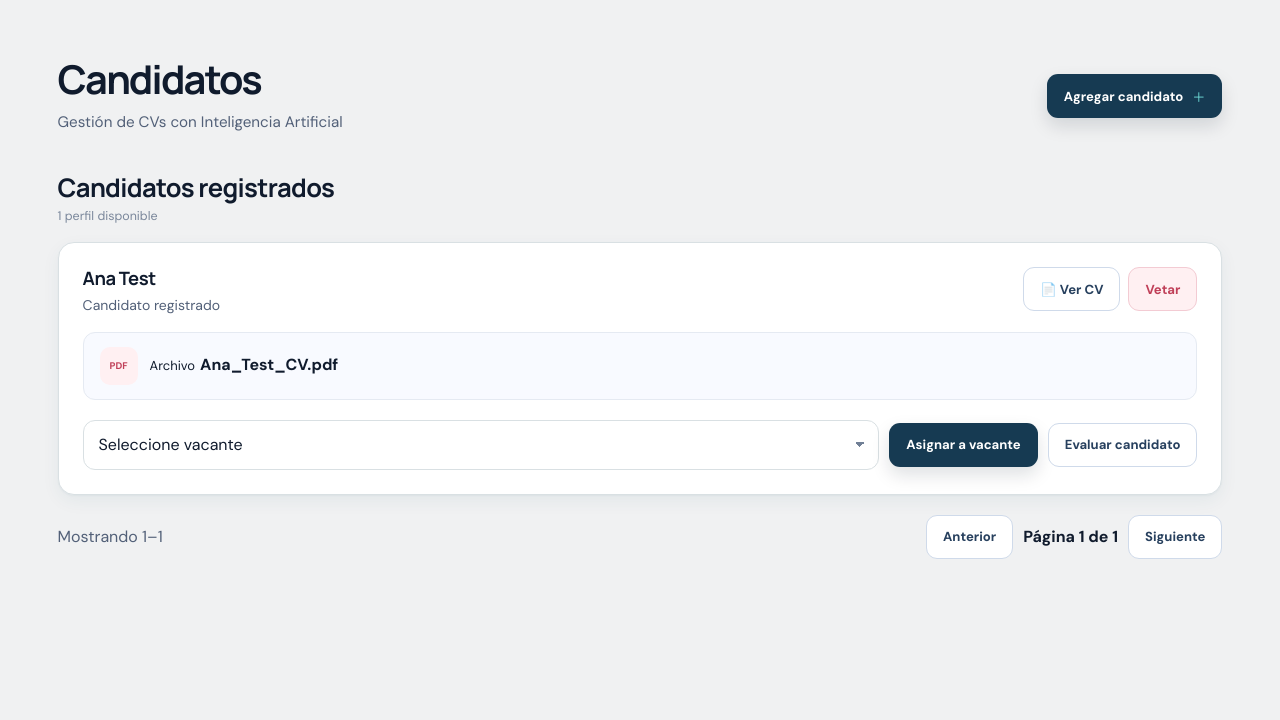
Test: Candidates evaluation › supports PARTIAL_MATCH on successful evaluation
This screenshot has width=1280, height=720.
Expected: the heading "Ana Test" is shown, [83,266,156,292]
Step 1. Select "Backend Developer" in the dropdown → [481, 444], box [83,420,879,470]
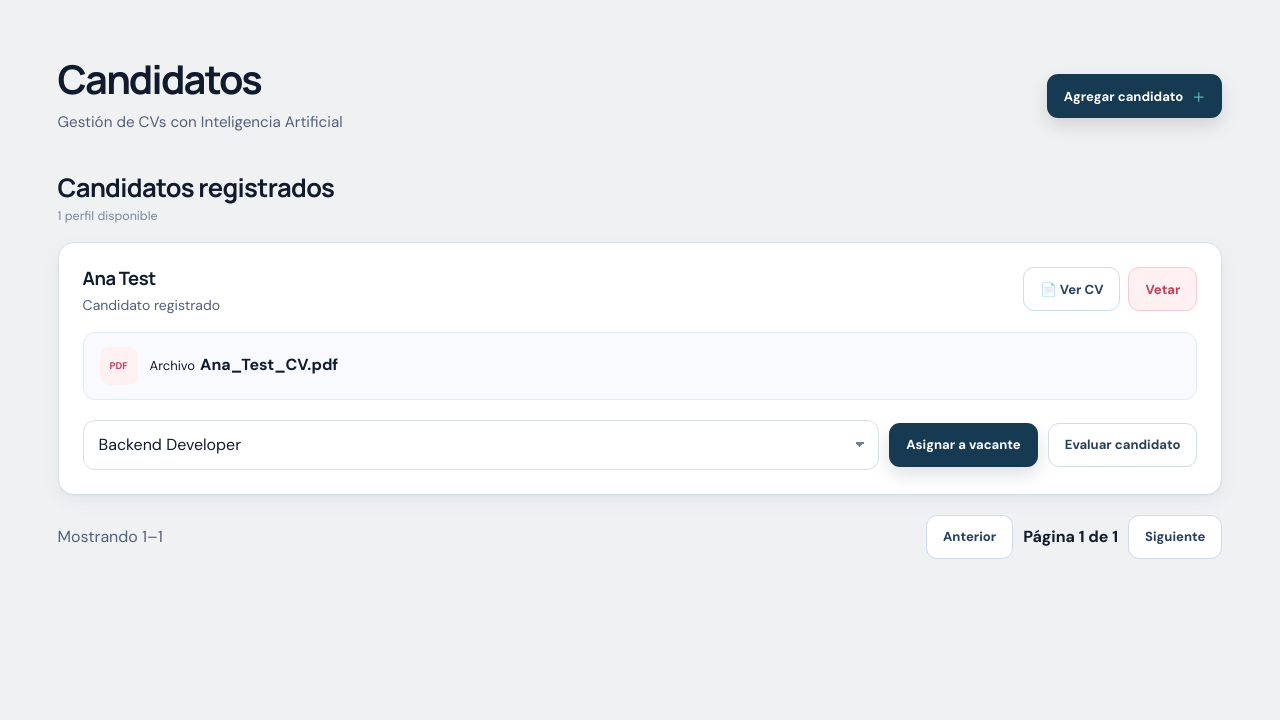
Step 2. Click the button "Evaluar candidato" → [1123, 444], box [1048,422,1197,466]
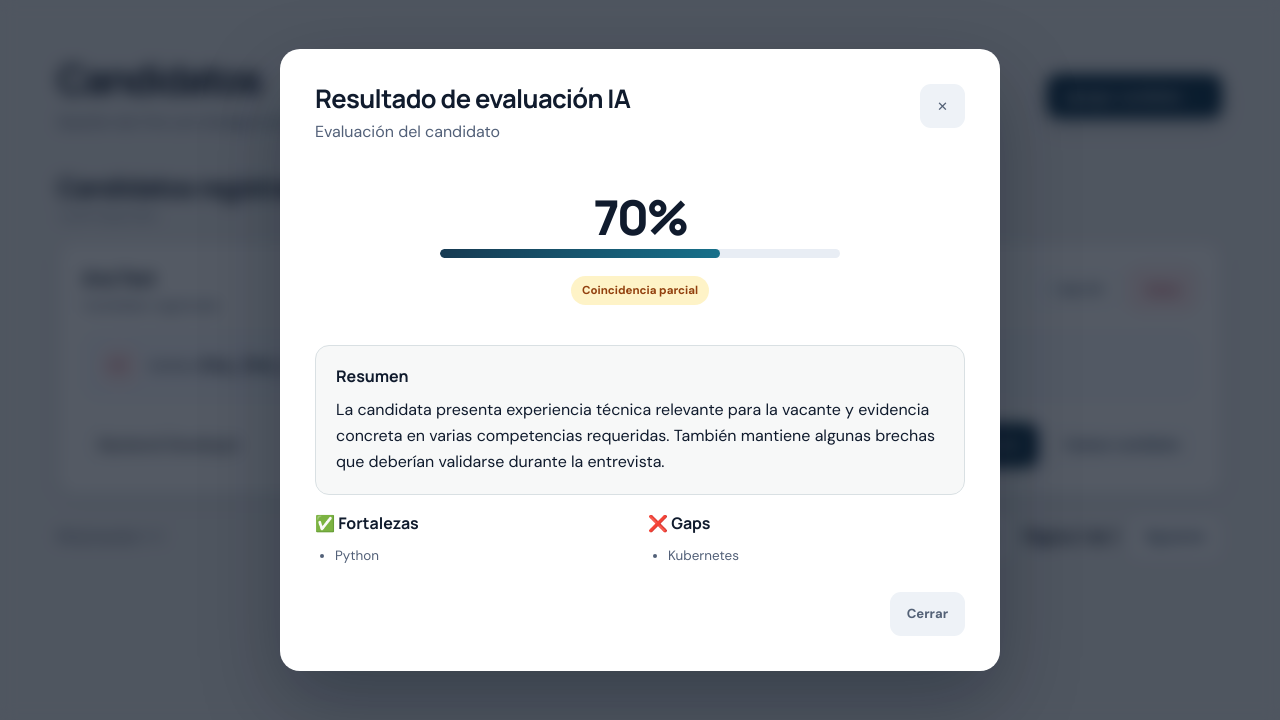
Result: the text "70%" is shown at [594,184,686,249]
Result: the text "Coincidencia parcial" is shown at [571,276,709,305]
